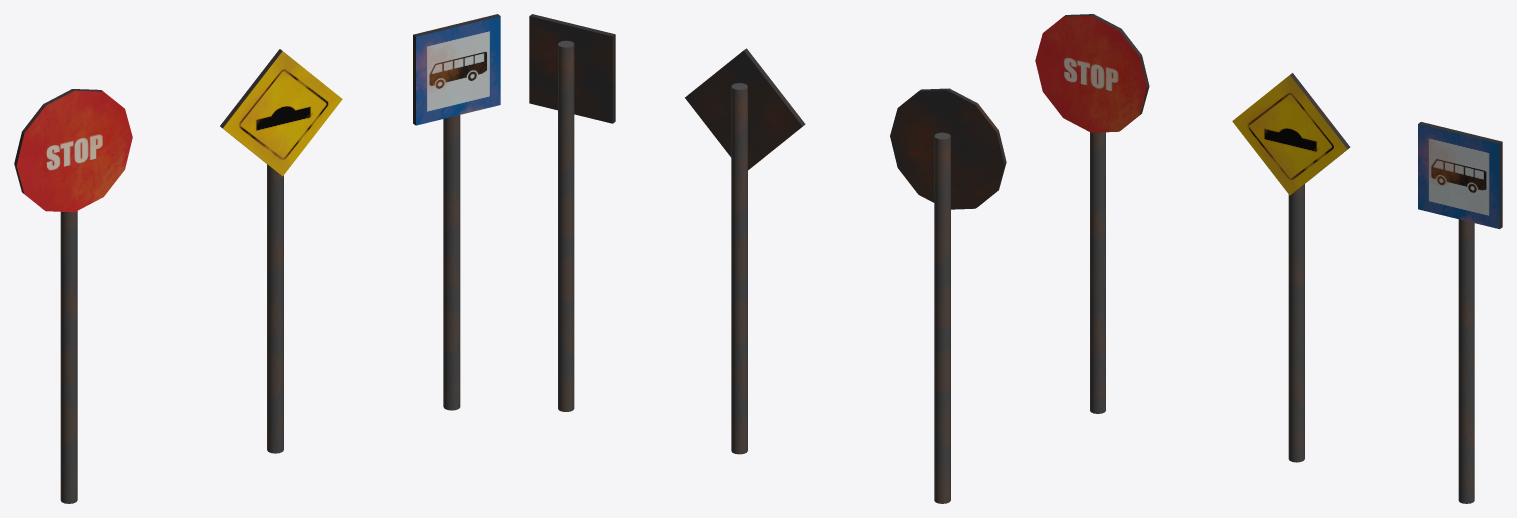
The model's file is Signs.fbx.
3 renders of one model, left to right at view 1: azimuth 30°, elevation 25°; view 2: azimuth 150°, elevation 25°; view 3: azimuth 330°, elevation 25°, orthographic. The views are drawn at different scales.
Visible parts, largest first — view 1: Stop, Bus, Bump; view 2: Stop, Bus, Bump; view 3: Stop, Bus, Bump.
Part boxes in pixels (x1,y1,x2,y2): Stop: [14, 89, 132, 503]; Bus: [413, 14, 500, 410]; Bump: [220, 49, 342, 453]; Stop: [890, 88, 1006, 503]; Bus: [529, 14, 615, 411]; Bump: [685, 48, 805, 454]; Stop: [1035, 14, 1149, 413]; Bus: [1418, 122, 1502, 503]; Bump: [1232, 73, 1350, 462].
Bounding box in the file's own units: 300 × 246 × 12.31.
Materials: 1 (1 with a texture image).
